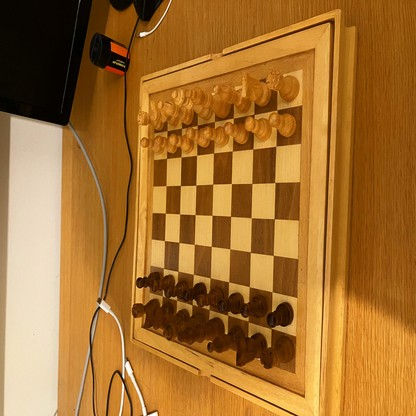bishop_black: (207, 326, 243, 352), (154, 310, 188, 331)
bishop_white: (213, 85, 250, 111), (158, 100, 193, 122)
king_black: (177, 317, 224, 344)
king_white: (187, 89, 230, 116)
knight_black: (235, 334, 266, 366), (144, 305, 172, 328)
knight_white: (241, 72, 270, 105), (149, 100, 179, 126)
pawn_black: (268, 302, 293, 327), (241, 296, 267, 317), (181, 282, 206, 302), (218, 293, 243, 312), (196, 289, 222, 307), (165, 280, 188, 299), (151, 275, 175, 292), (136, 273, 161, 287)
pawn_white: (269, 112, 296, 135), (245, 117, 272, 139), (224, 122, 249, 143), (204, 125, 229, 145), (169, 133, 194, 153), (186, 127, 209, 147), (156, 136, 178, 155), (141, 138, 164, 154)
queen_black: (163, 316, 205, 341)
queen_white: (173, 89, 210, 117)
rock_black: (261, 337, 295, 369), (132, 299, 158, 316)
rock_white: (267, 71, 299, 100), (137, 113, 164, 130)
